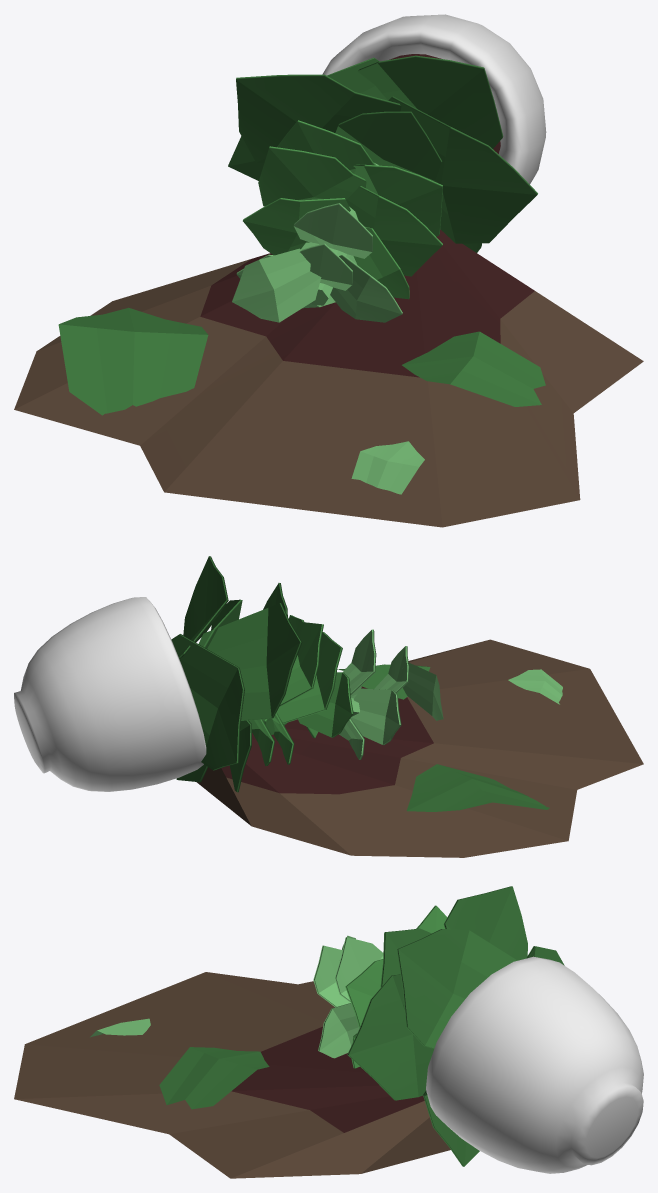
The model's file is Destroyed_Plant_in_a_plantpot.fbx.
3 views of the same model, one above another, from view 1: azimuth 30°, elevation 25°; view 2: azimuth 150°, elevation 25°; view 3: azimuth 270°, elevation 25° (orthographic). The views are drawn at different scales.
Parts seen in each view (by area): view 1: polySurface2853; view 2: polySurface2853; view 3: polySurface2853.
Boxes of the visible parts, x1,y1,x2,y2 form: polySurface2853: (14,14,643,527); polySurface2853: (14,556,643,857); polySurface2853: (14,886,643,1178).
Size of the model in its own units: 1.99 by 0.8191 by 2.13.
